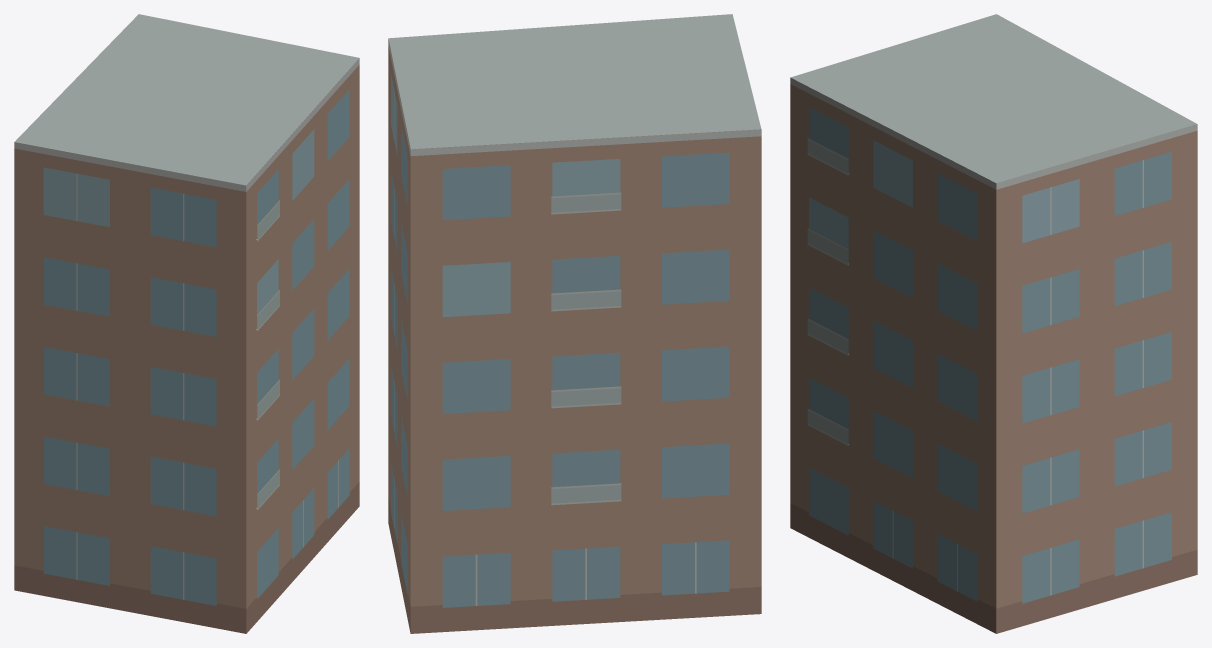
File: survey-upis-32827146.glb
The picture shows the model from 3 angles, left to right: view 1: azimuth 30°, elevation 25°; view 2: azimuth 150°, elevation 25°; view 3: azimuth 270°, elevation 25°; orthographic projection. The views are drawn at different scales.
Parts seen in each view (by area): view 1: survey-upis-32827146.tmp; view 2: survey-upis-32827146.tmp; view 3: survey-upis-32827146.tmp.
Part boxes in pixels (x1,y1,x2,y2): survey-upis-32827146.tmp: (14,14,359,633); survey-upis-32827146.tmp: (388,14,761,633); survey-upis-32827146.tmp: (790,14,1197,633).
Bounding box in the file's own units: 13.71 × 17 × 13.94.
